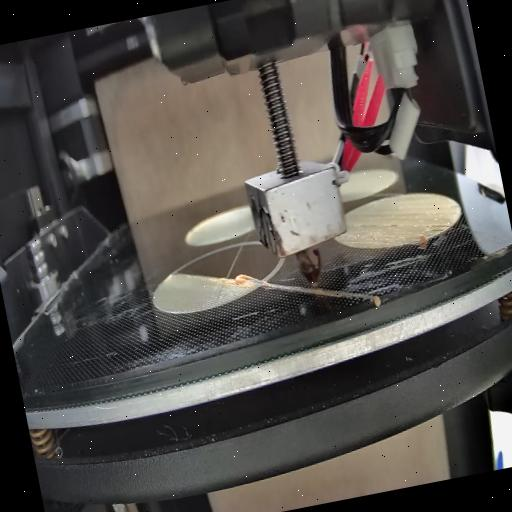under_extrusion: (361, 216, 400, 234), (424, 220, 452, 240), (446, 202, 464, 213)
